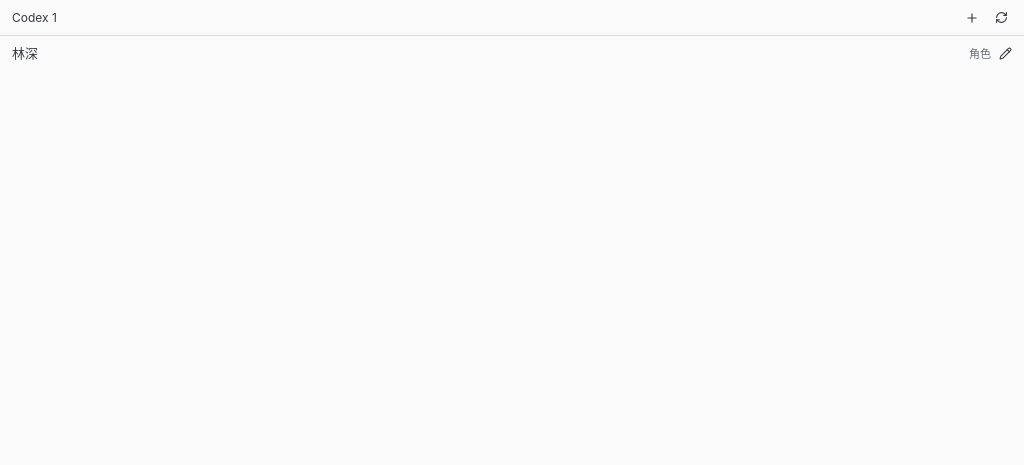
Test: Codex user workflow against the file IPC boundary › preserves an externally changed body while a metadata form was open
This screenshot has width=1024, height=465.
Step 1. Click the button named "编辑 林深" → (1006, 54), box [995,43,1016,64]
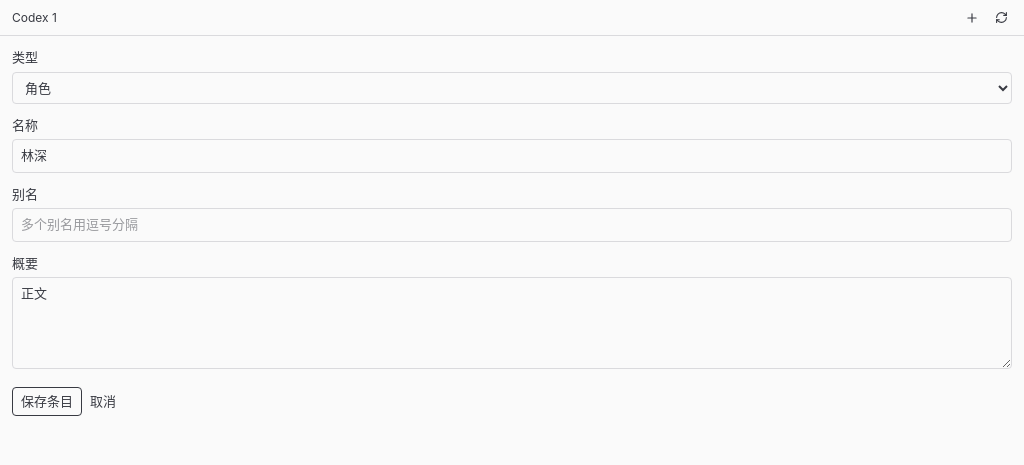
Step 2. Replace the text in the field labelled "名称" with "新名字" → (512, 156), box [12,139,1012,172]
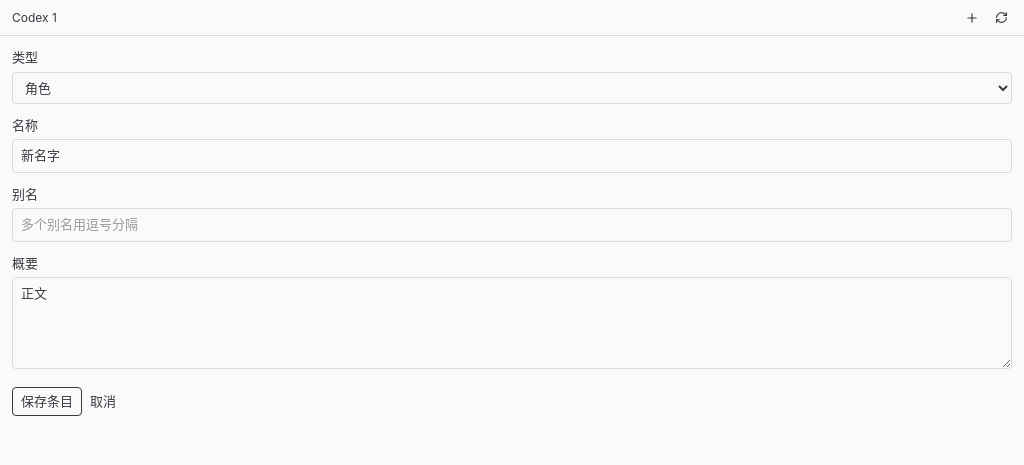
Step 3. Click the button "保存条目" → (47, 401), box [12,386,82,416]
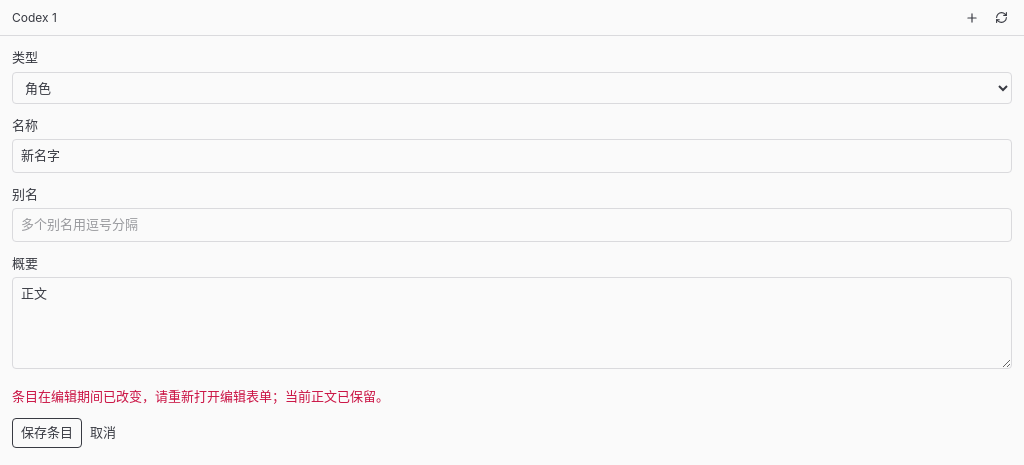
Result: the text "条目在编辑期间已改变，请重新打开编辑表单；当前正文已保留。" is shown at [12,388,389,404]
